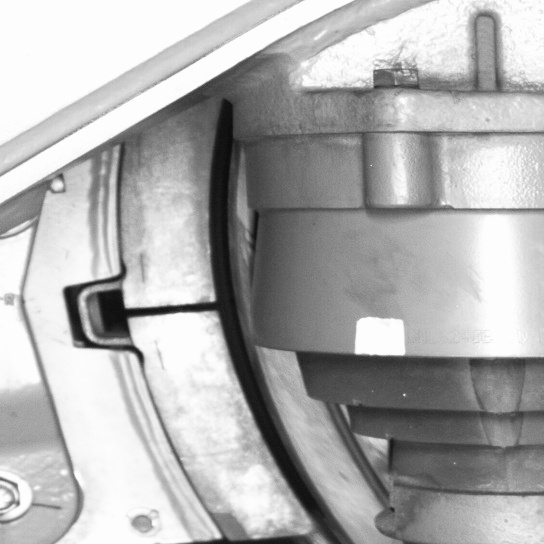KnifeSwitch: (138, 134, 354, 541)
